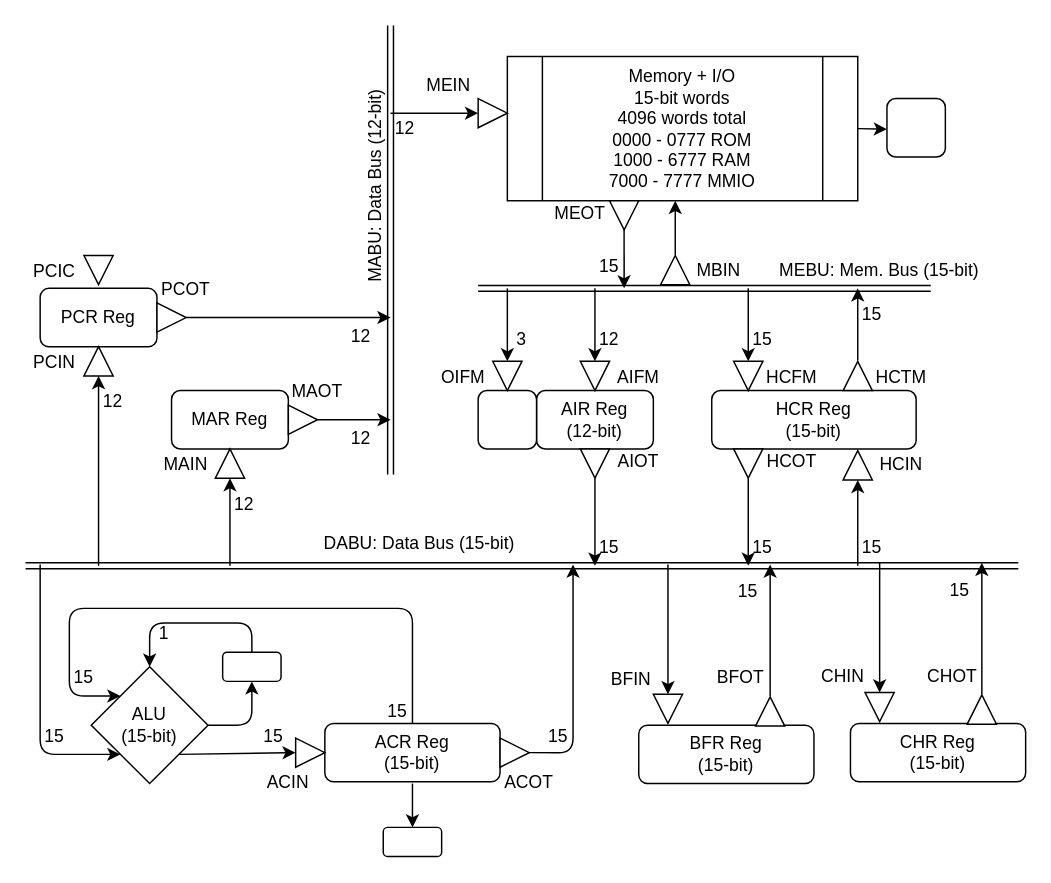
Image size: 1051x883. Some labels were removed from this diagram. Here are the shapes that lost their labels. From the top down, the centre of each, then its label:
At point (915, 127): "Mem Ready".
At point (507, 419): "OIR (3-bit)".
At point (251, 666): "Carry".
At point (412, 841): "Zero".
